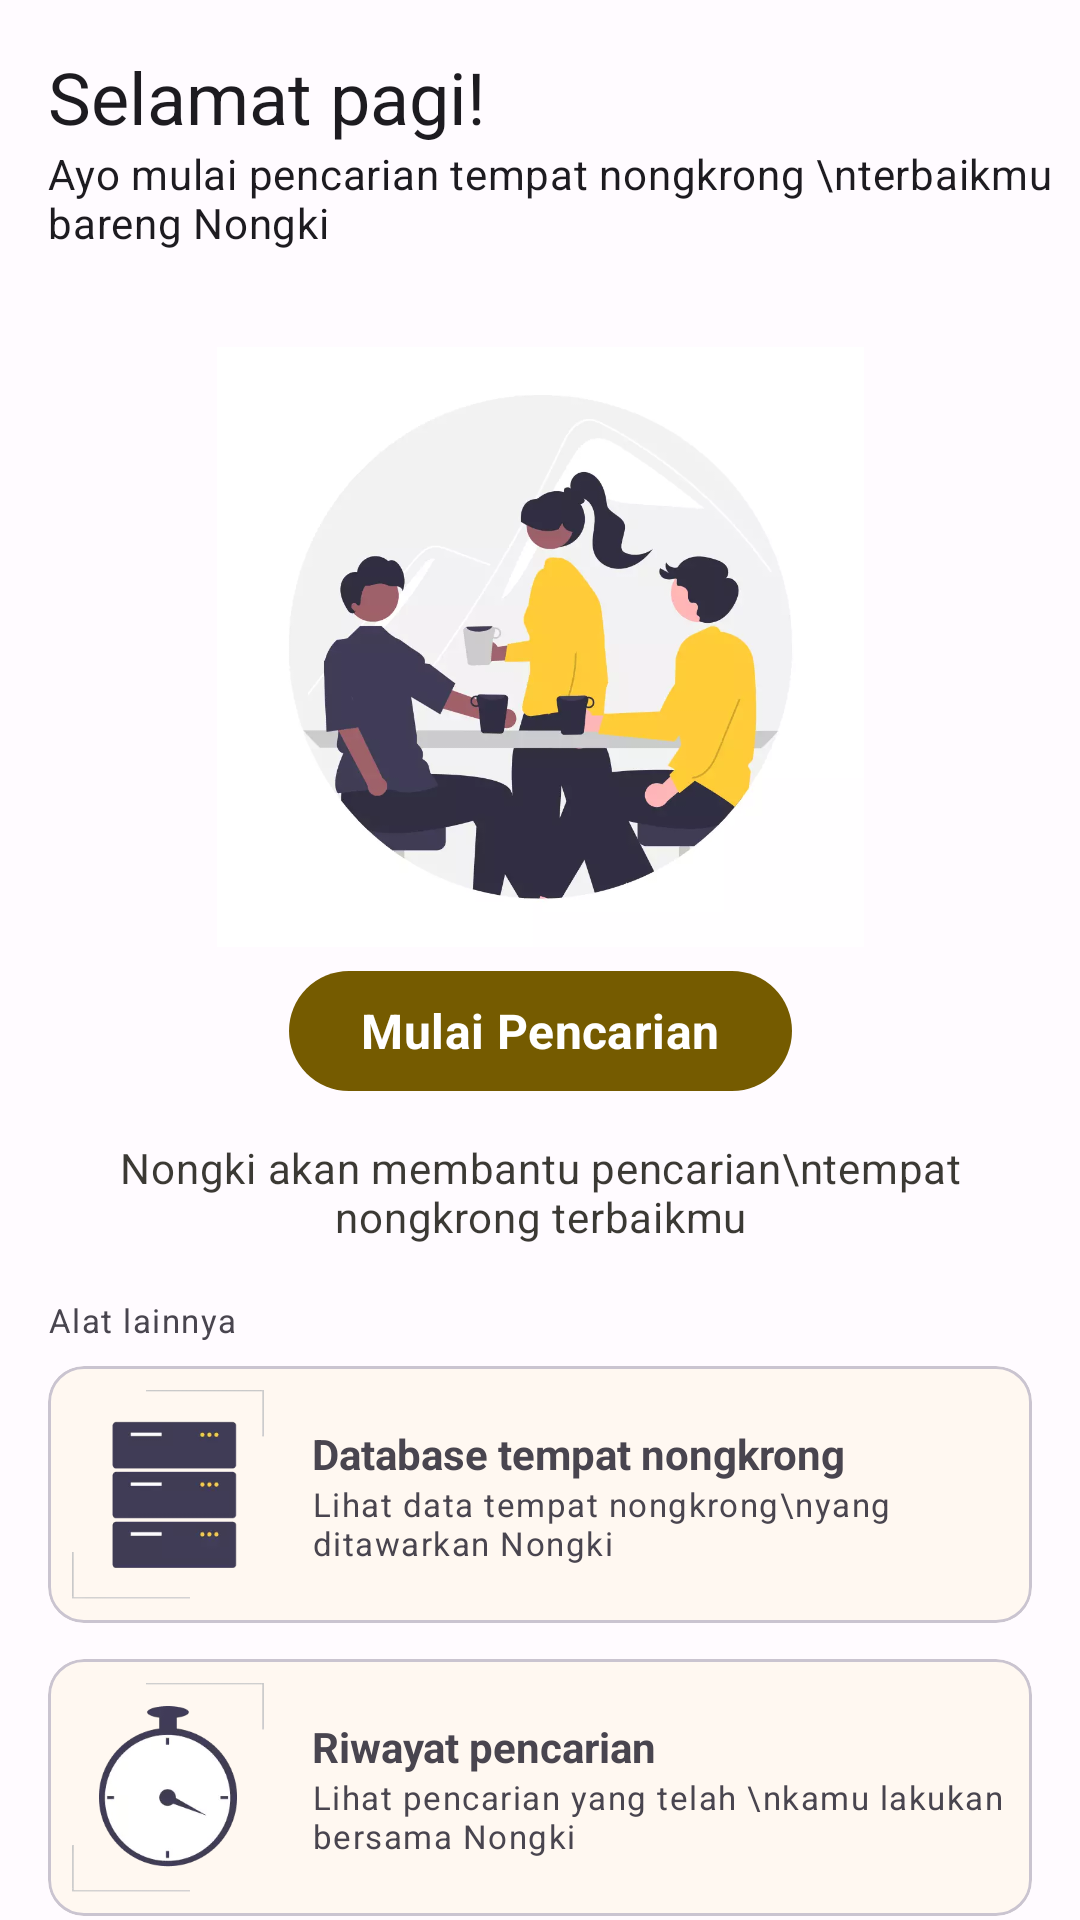

Icon click points for this 1080px x 1920px phone screenshot, format (x=x, y=y):
Icon history: (x=168, y=1787)
